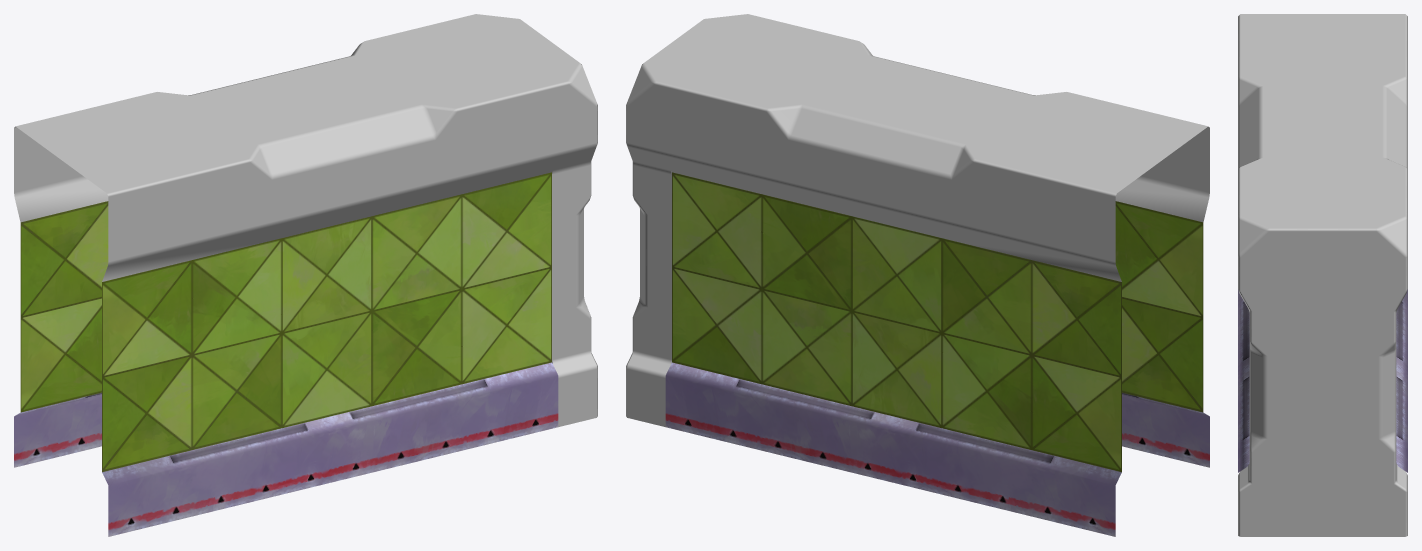
Rendered from SM_SmallWall_End.fbx.
The picture shows the model from 3 angles, left to right: view 1: azimuth 30°, elevation 25°; view 2: azimuth 150°, elevation 25°; view 3: azimuth 270°, elevation 25°; orthographic projection. The views are drawn at different scales.
Parts seen in each view (by area): view 1: SM_SmallWall_End; view 2: SM_SmallWall_End; view 3: SM_SmallWall_End.
Part boxes in pixels (x1=…): SM_SmallWall_End: x1=14, y1=14, x2=597, y2=536; SM_SmallWall_End: x1=626, y1=14, x2=1209, y2=536; SM_SmallWall_End: x1=1238, y1=14, x2=1407, y2=536.
Size of the model in its own units: 600 by 400 by 200.
